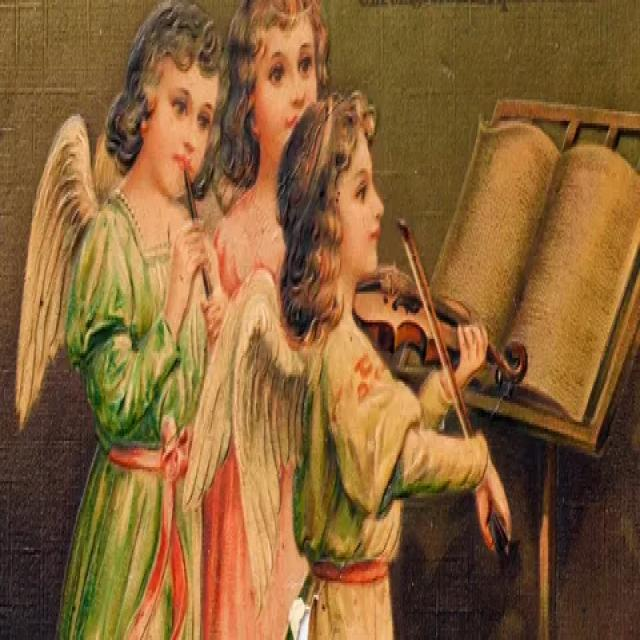angel: (212, 82, 532, 640)
